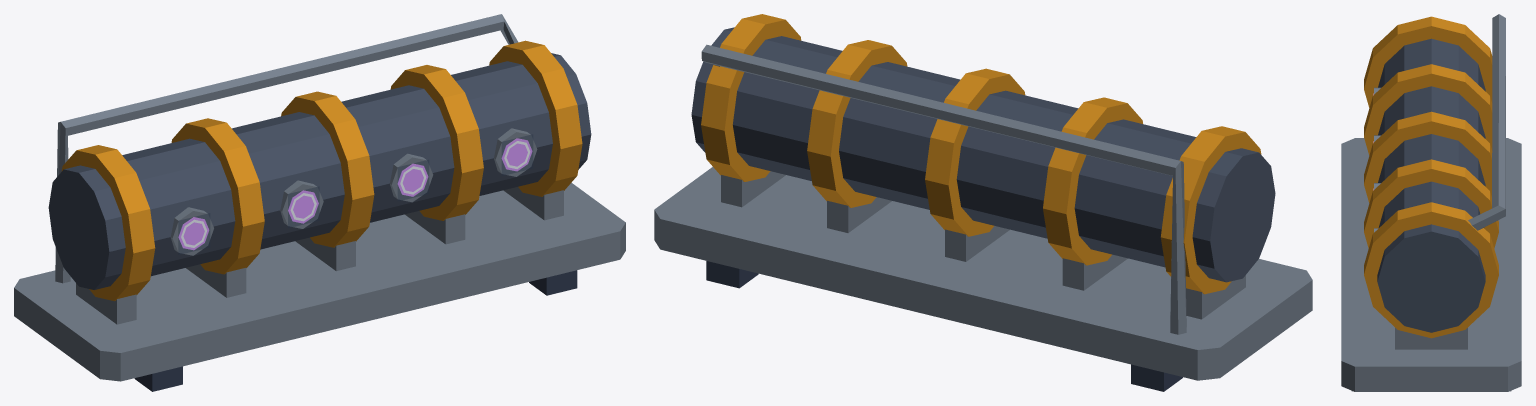
Rendered from fus_neutral_beam_injector.glb.
The picture shows the model from 3 angles, left to right: view 1: azimuth 30°, elevation 25°; view 2: azimuth 150°, elevation 25°; view 3: azimuth 270°, elevation 25°; orthographic projection. The views are drawn at different scales.
Visible parts, largest first — view 1: coil_support, beam_vacuum_tube, focusing_coil, viewport_glass, beam_glow, bench_foot, white_aperture; view 2: coil_support, beam_vacuum_tube, focusing_coil, bench_foot; view 3: coil_support, focusing_coil, beam_vacuum_tube.
Boxes of the visible parts, left/top/right/bottom form: coil_support: left=14, top=14, right=625, bottom=381; beam_vacuum_tube: left=48, top=53, right=591, bottom=289; focusing_coil: left=61, top=40, right=582, bottom=301; viewport_glass: left=178, top=134, right=532, bottom=254; beam_glow: left=178, top=138, right=532, bottom=250; bench_foot: left=134, top=270, right=577, bottom=391; white_aperture: left=181, top=141, right=530, bottom=247; coil_support: left=654, top=44, right=1312, bottom=380; beam_vacuum_tube: left=691, top=27, right=1275, bottom=282; focusing_coil: left=701, top=14, right=1261, bottom=294; bench_foot: left=706, top=261, right=1182, bottom=391; coil_support: left=1341, top=14, right=1521, bottom=391; focusing_coil: left=1364, top=16, right=1498, bottom=338; beam_vacuum_tube: left=1377, top=38, right=1485, bottom=332.
Size of the model in its own units: 4.8 by 1.85 by 1.6.
